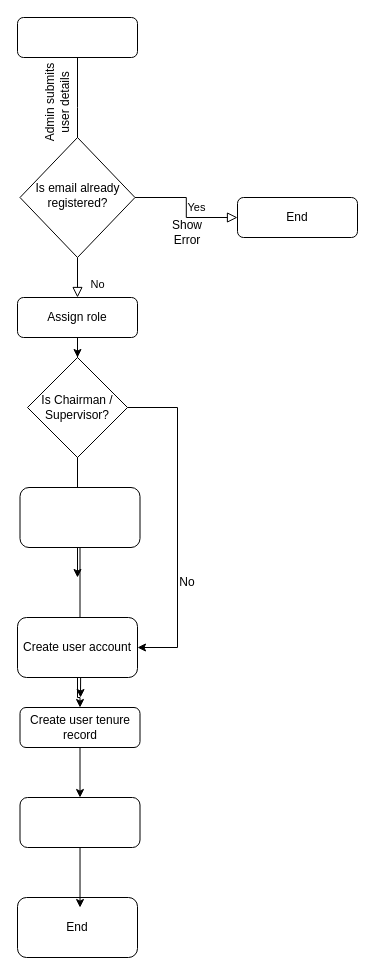
The diagram is 375 pixels wide and 975 high, and some of its shapes have lost their labels. The box of each missing label's shape, as (x1, y1, x2, y2) in pixels:
Assign Department: (19, 486, 140, 548)
Send credentials / confirmation: (19, 796, 140, 848)
Start: (16, 16, 138, 58)
